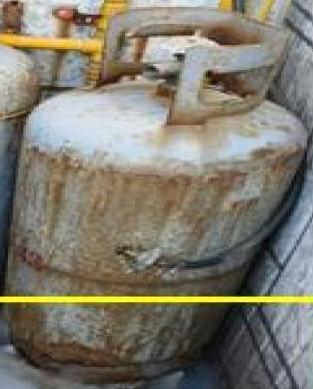cylinder: (0, 1, 313, 389)
